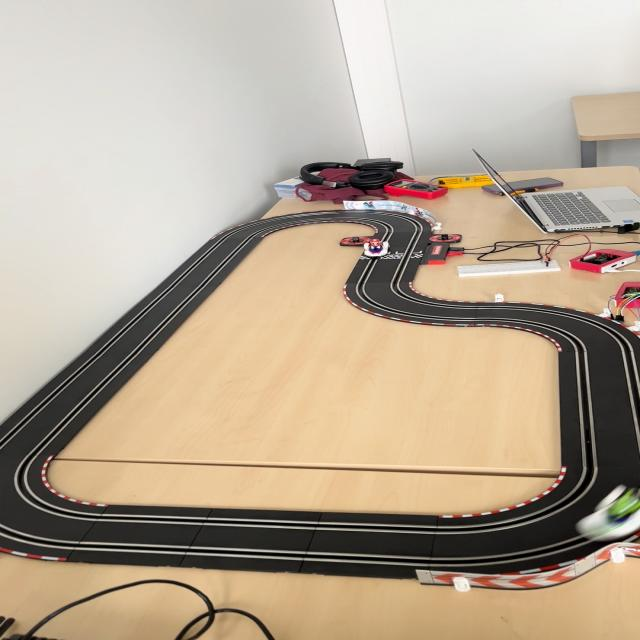mario: (361, 238, 392, 258)
yoshi: (573, 483, 640, 544)
